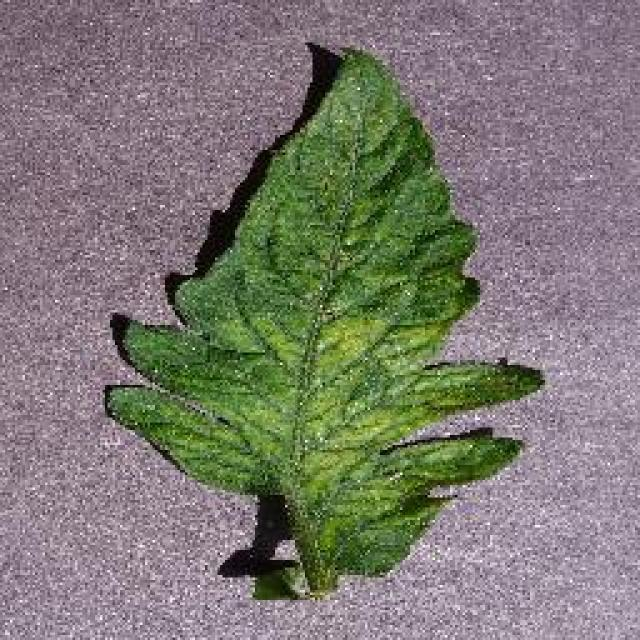Tomato mosaic virus leaf: (102, 44, 548, 578)
